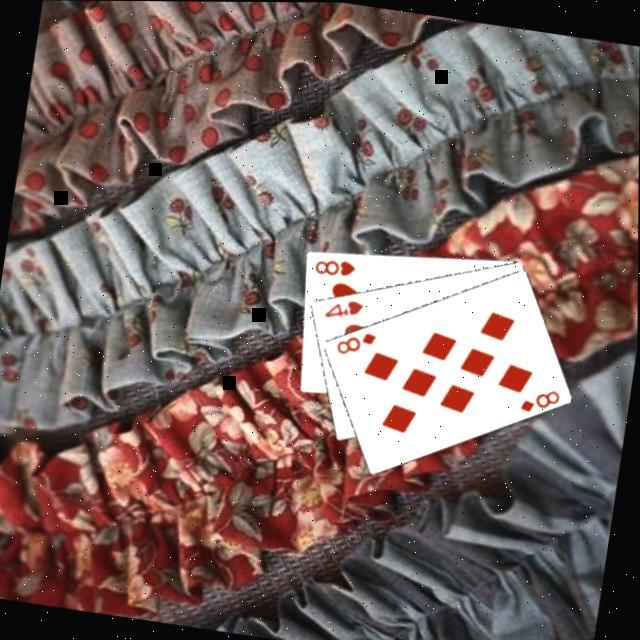4H: (319, 291, 365, 323)
8D: (329, 322, 378, 360), (515, 380, 563, 418)
8H: (308, 251, 357, 279)
